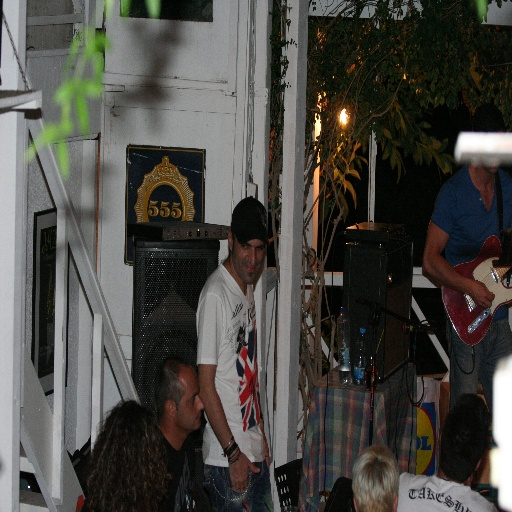hand: (228, 451, 260, 493), (470, 281, 494, 311), (262, 431, 270, 474)
